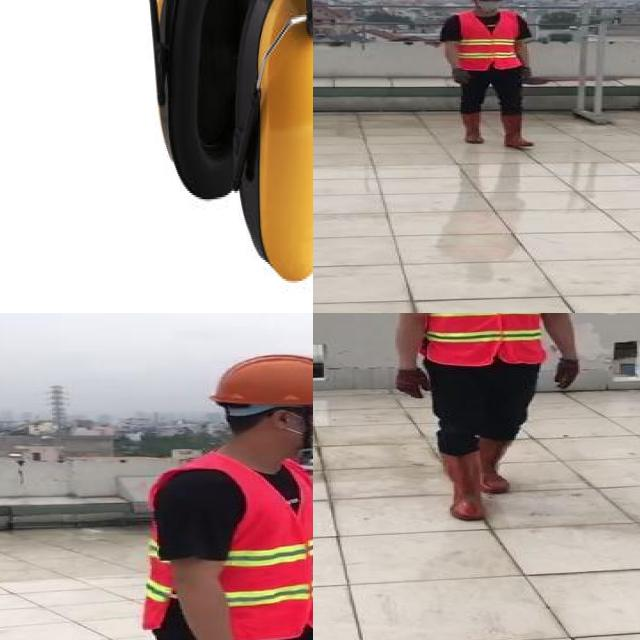Ear-protection: (135, 0, 313, 303)
boots: (442, 452, 488, 521), (484, 439, 519, 494), (500, 112, 538, 147), (458, 110, 488, 144)
face_mask: (283, 402, 313, 458), (474, 0, 504, 12)
glasses: (471, 0, 506, 3)
hand_glove: (393, 368, 431, 398), (554, 359, 576, 391), (520, 67, 536, 85), (448, 75, 474, 85)
head_helmet: (208, 349, 313, 412)
person: (123, 345, 313, 640), (384, 313, 592, 532), (436, 0, 544, 151)
vest: (142, 452, 313, 639), (425, 313, 546, 365), (454, 10, 520, 71)
